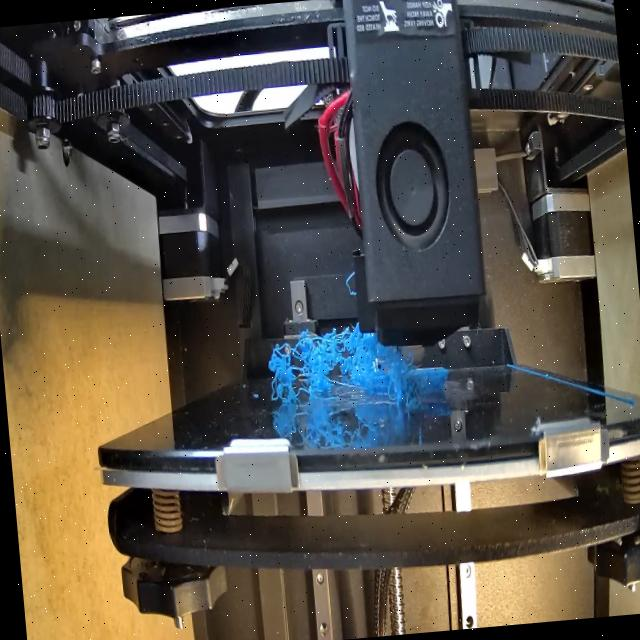spaghetti: (269, 327, 387, 404), (384, 354, 425, 410)
